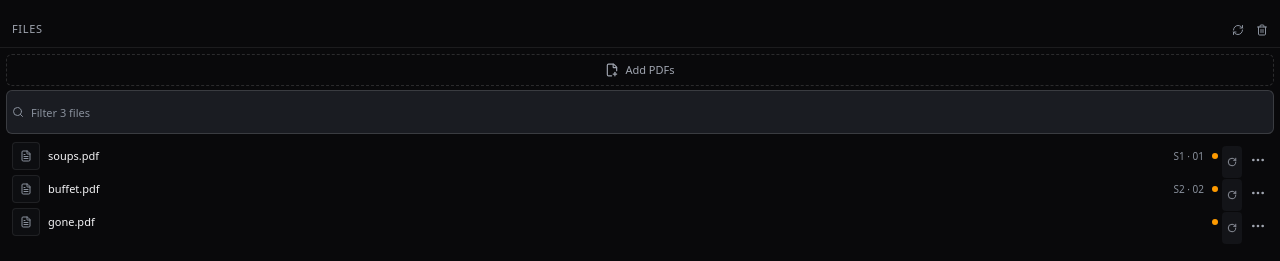
the Files rail points at cards › filters by name and says when nothing matches
The width and height of the screenshot is (1280, 261).
Type "buff" into the search field named "Filter files by name" at (640, 112), box [6,90,1274,134]
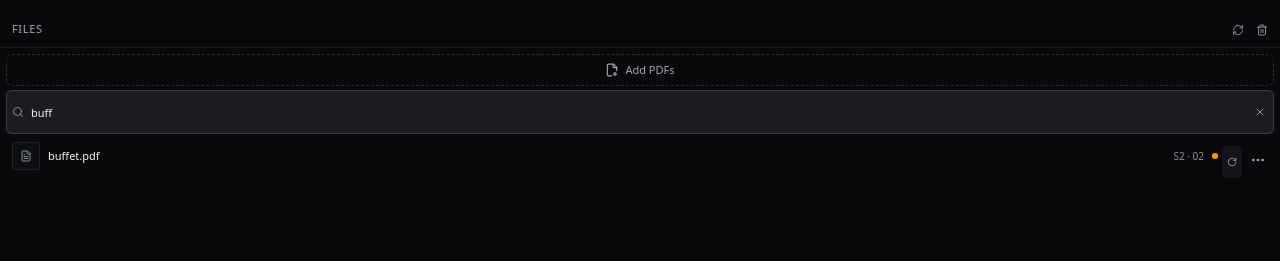
Expected: the text "buffet.pdf" is shown, [48,148,100,163]
Expected: the button "soups.pdf" is gone
Replace the text in the search field named "Filter files by name" with "zzz" at (640, 112), box [6,90,1274,134]
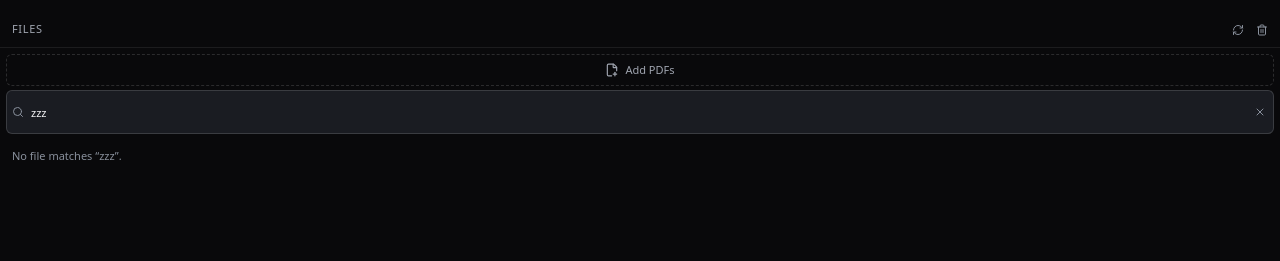
Expected: the text "No file matches “zzz”." is shown, [12,148,122,163]
Click the button named "Clear filter" at (1260, 112), box [1250,96,1270,128]
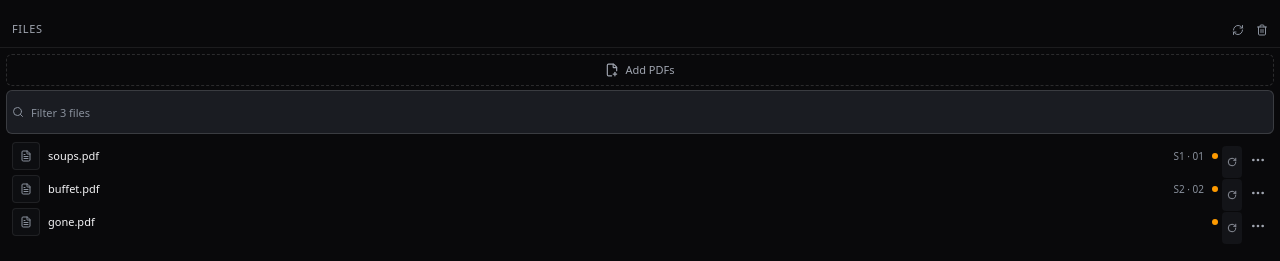
Expected: the text "soups.pdf" is shown, [48,148,99,163]
